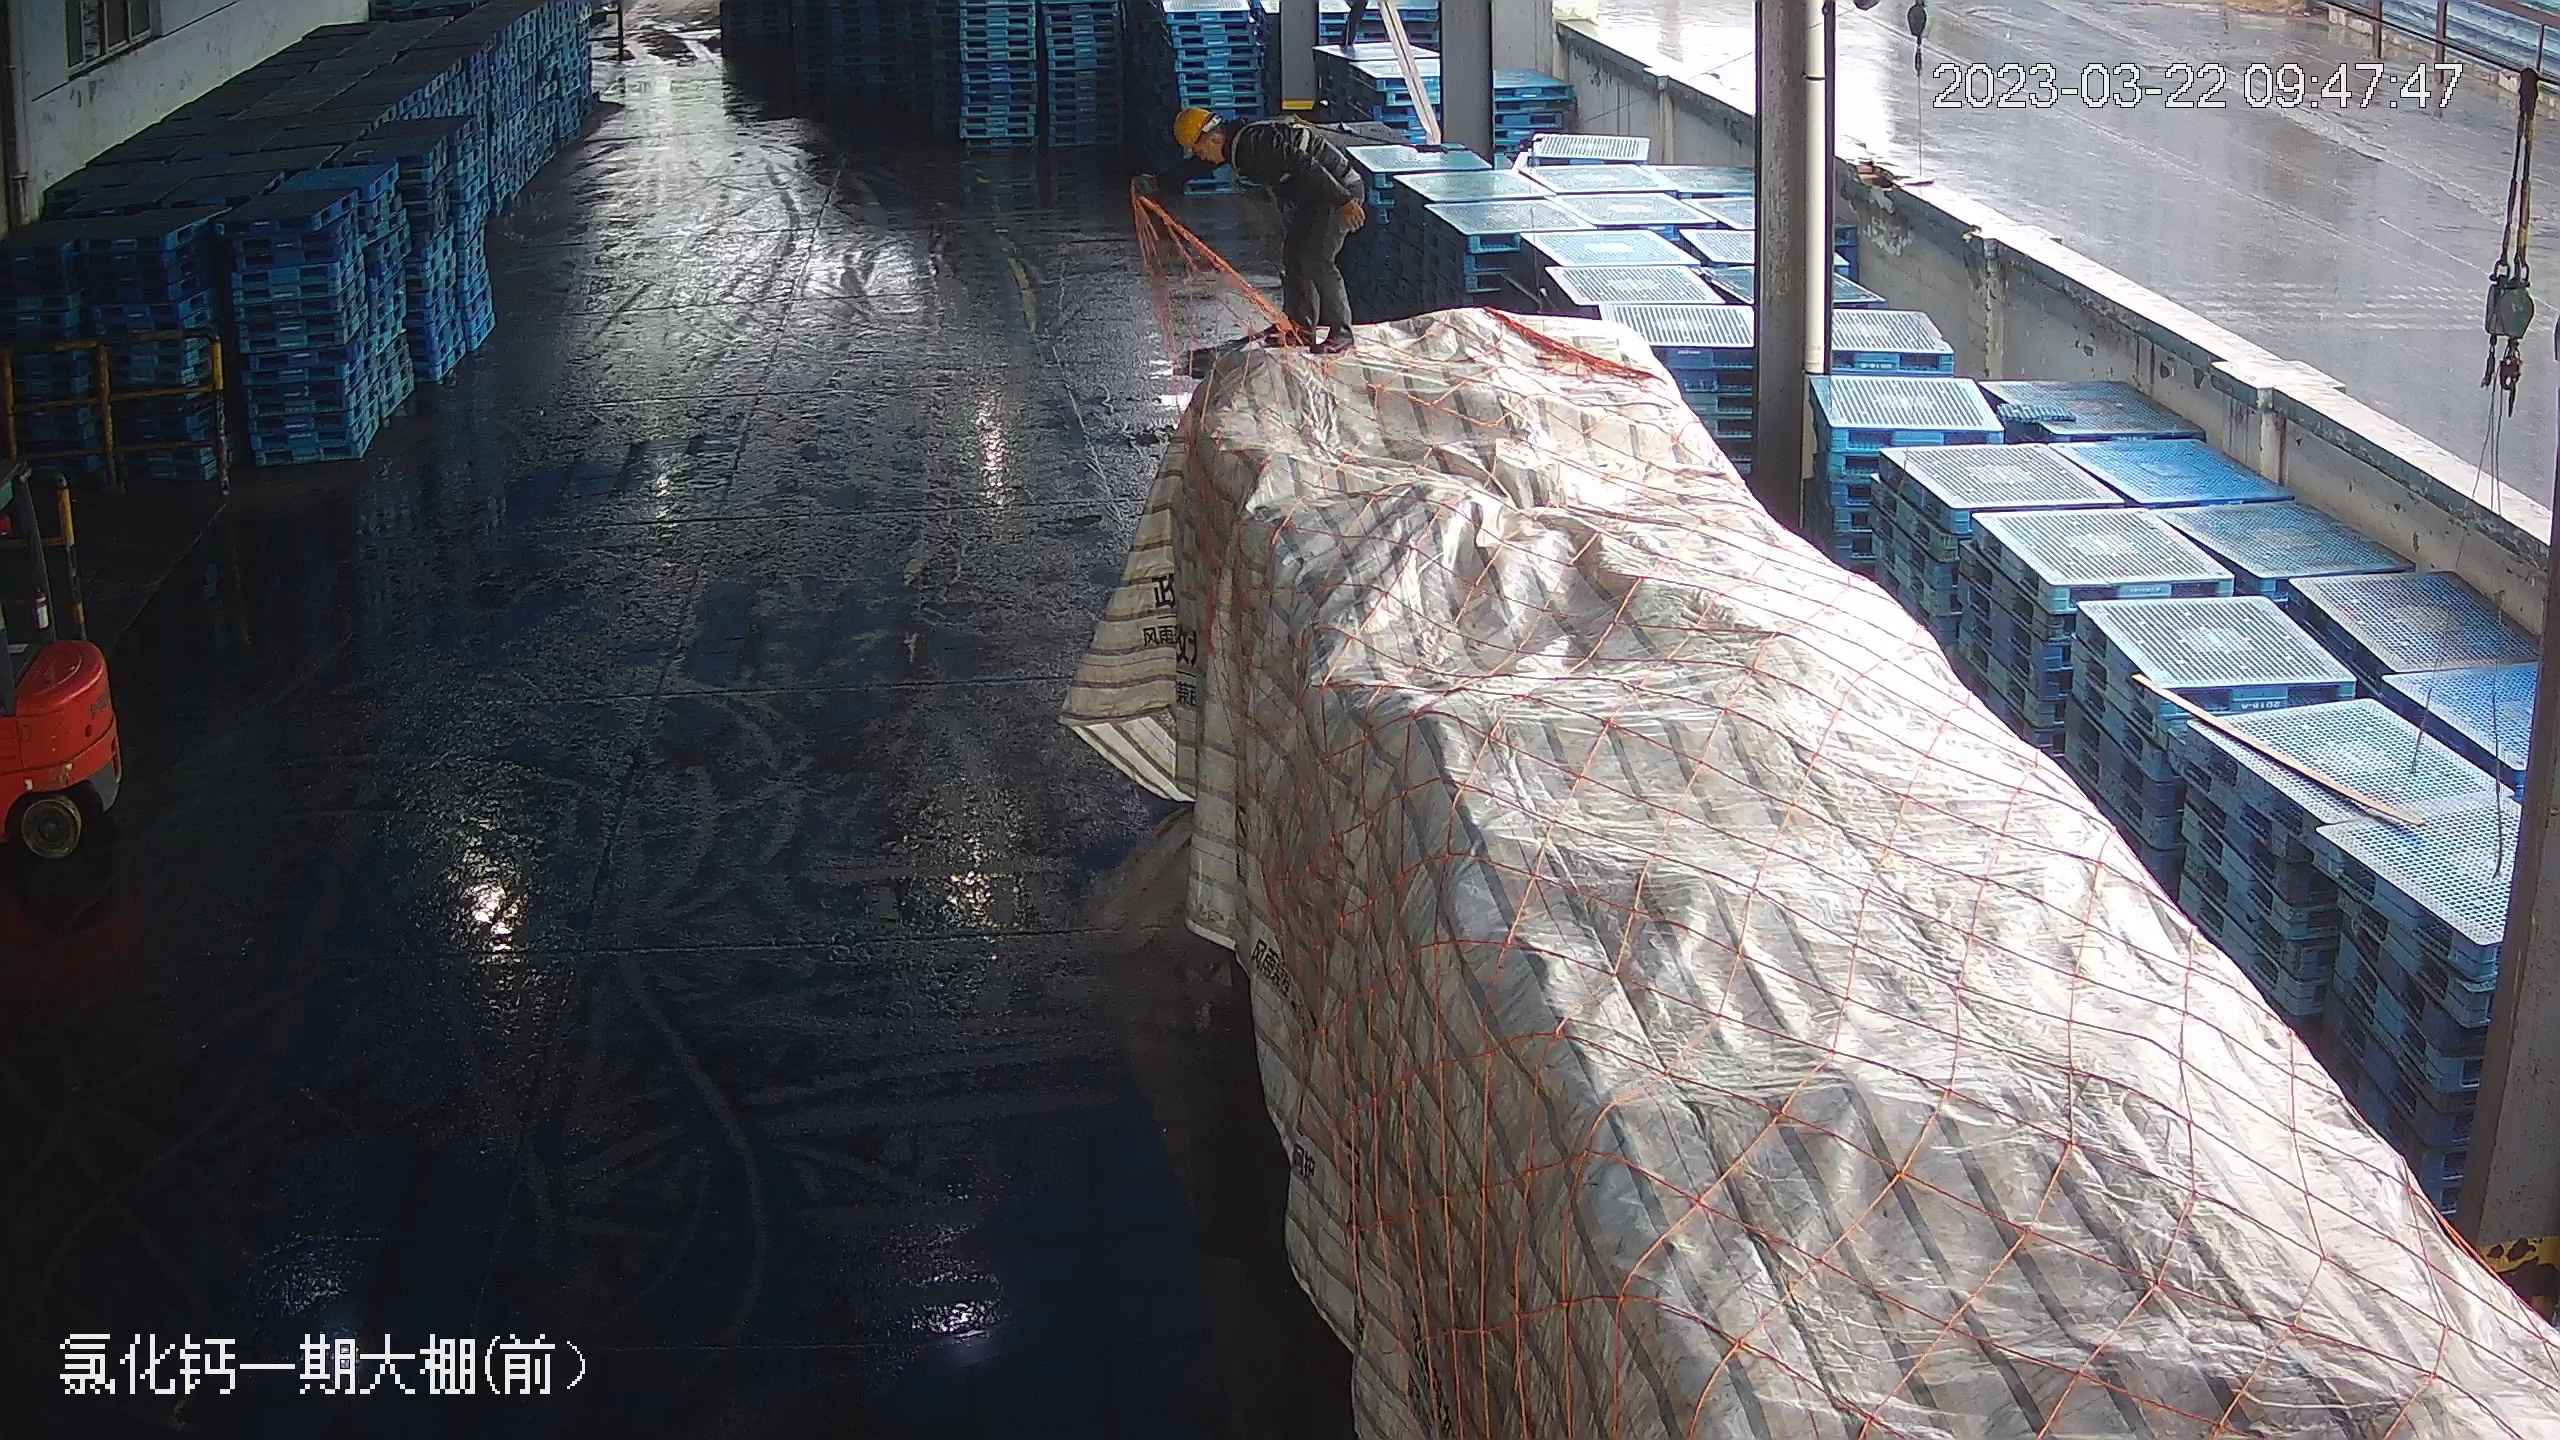belt: (1237, 108, 1321, 184)
head: (1171, 101, 1290, 189)
helmet: (1172, 102, 1217, 154)
people: (1171, 99, 1370, 360)
truck: (1117, 169, 2548, 1440)
